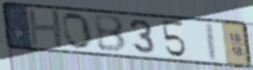3: (129, 19, 158, 55)
5: (161, 19, 187, 59)
B: (92, 15, 129, 55)
H: (26, 8, 66, 49)
I: (206, 21, 220, 63)
O: (61, 11, 95, 51)
